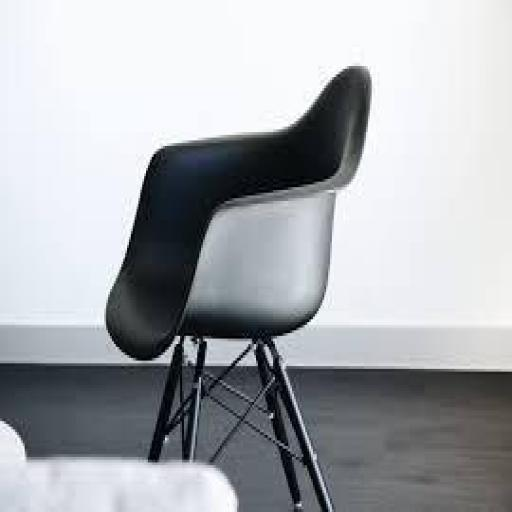chair: (104, 58, 376, 512)
